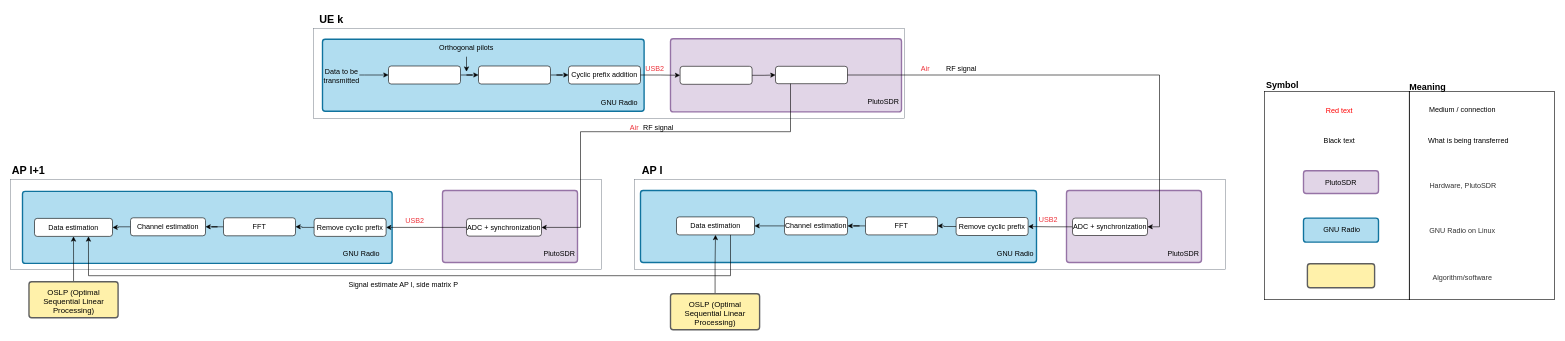
Image size: 1565x341. Some labels were removed from this diagram. Each missing label, with the box of its shape:
DAC: (680, 66, 752, 84)
IFFT: (478, 65, 550, 84)
QAM Modulation: (388, 65, 460, 84)
Upconversion: (775, 66, 848, 84)
